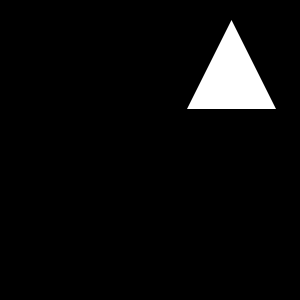triangle: (187, 20, 276, 109)
